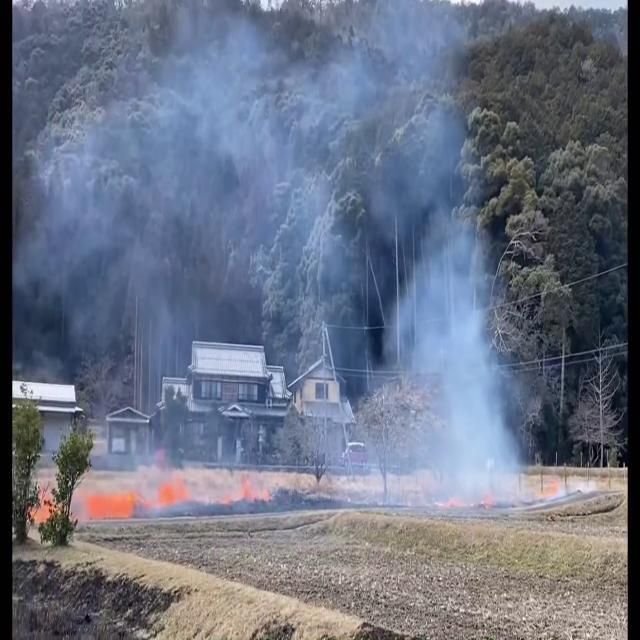Smoke: (15, 0, 538, 523)
